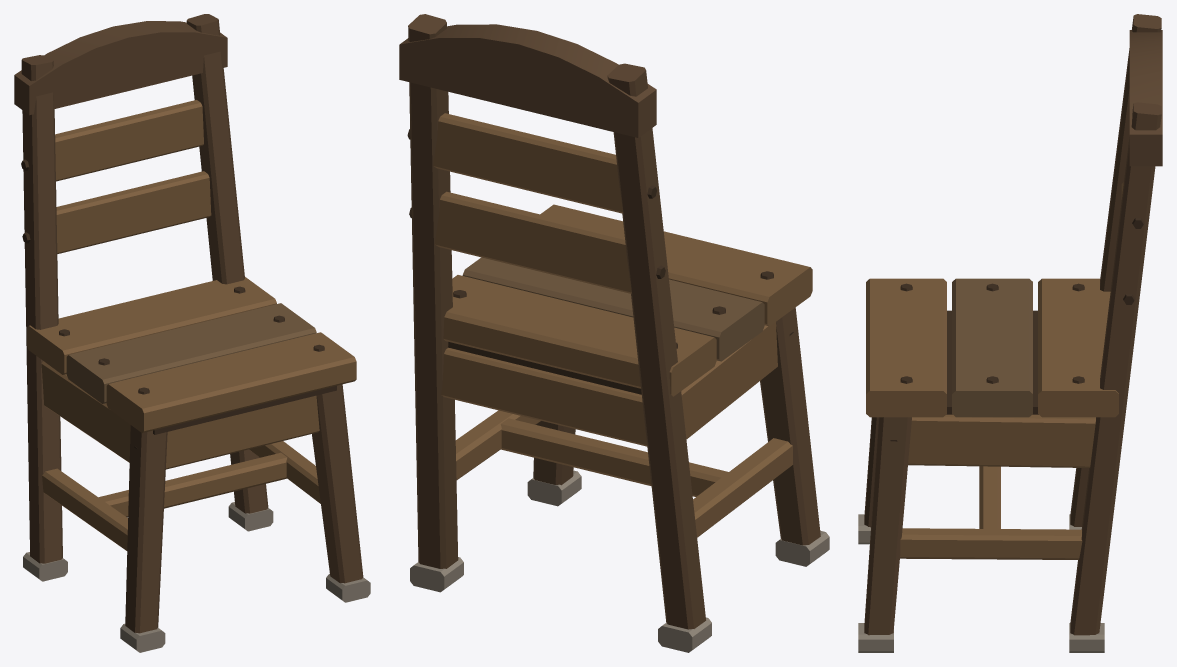
The model's file is SM_LPD_Furn_ChairPlain_01.fbx.
The picture shows the model from 3 angles, left to right: view 1: azimuth 30°, elevation 25°; view 2: azimuth 150°, elevation 25°; view 3: azimuth 270°, elevation 25°; orthographic projection. The views are drawn at different scales.
Visible parts, largest first — view 1: SM_LPD_Furn_ChairPlain_01; view 2: SM_LPD_Furn_ChairPlain_01; view 3: SM_LPD_Furn_ChairPlain_01.
Boxes of the visible parts, left/top/right/bottom form: SM_LPD_Furn_ChairPlain_01: left=14, top=14, right=370, bottom=652; SM_LPD_Furn_ChairPlain_01: left=399, top=14, right=829, bottom=652; SM_LPD_Furn_ChairPlain_01: left=858, top=14, right=1162, bottom=652.
Size of the model in its own units: 0.462 by 0.936 by 0.4806.
